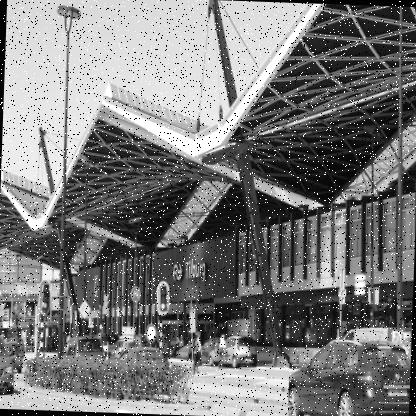Car: (287, 327, 412, 415), (62, 332, 171, 373), (116, 347, 172, 370), (219, 335, 258, 368), (62, 335, 108, 361), (0, 330, 17, 396), (4, 340, 26, 372), (100, 334, 124, 358), (201, 338, 222, 364), (10, 338, 26, 356)
